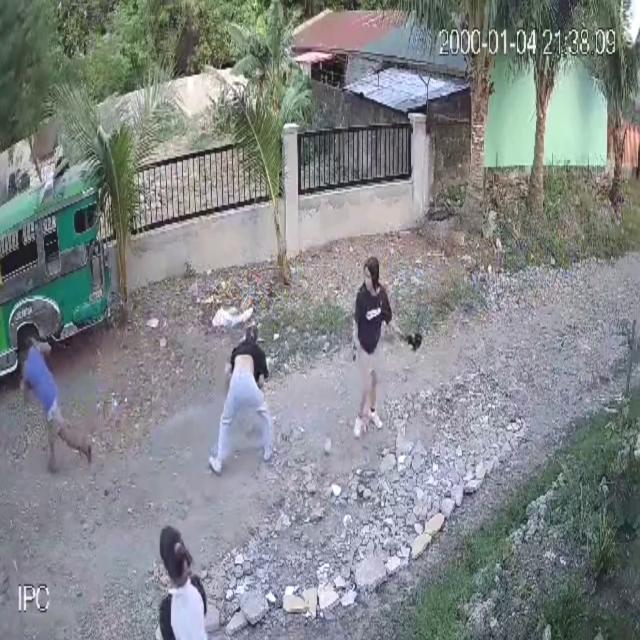running: (13, 328, 96, 477)
walking: (348, 252, 427, 443), (153, 521, 212, 640)
